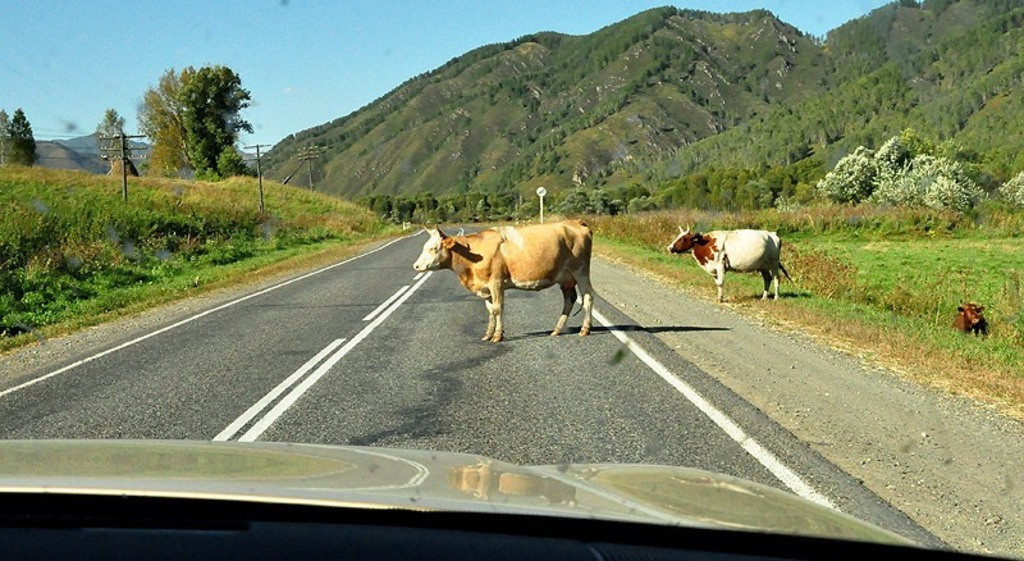inek: (415, 218, 599, 338), (664, 222, 793, 316), (948, 297, 991, 341)
